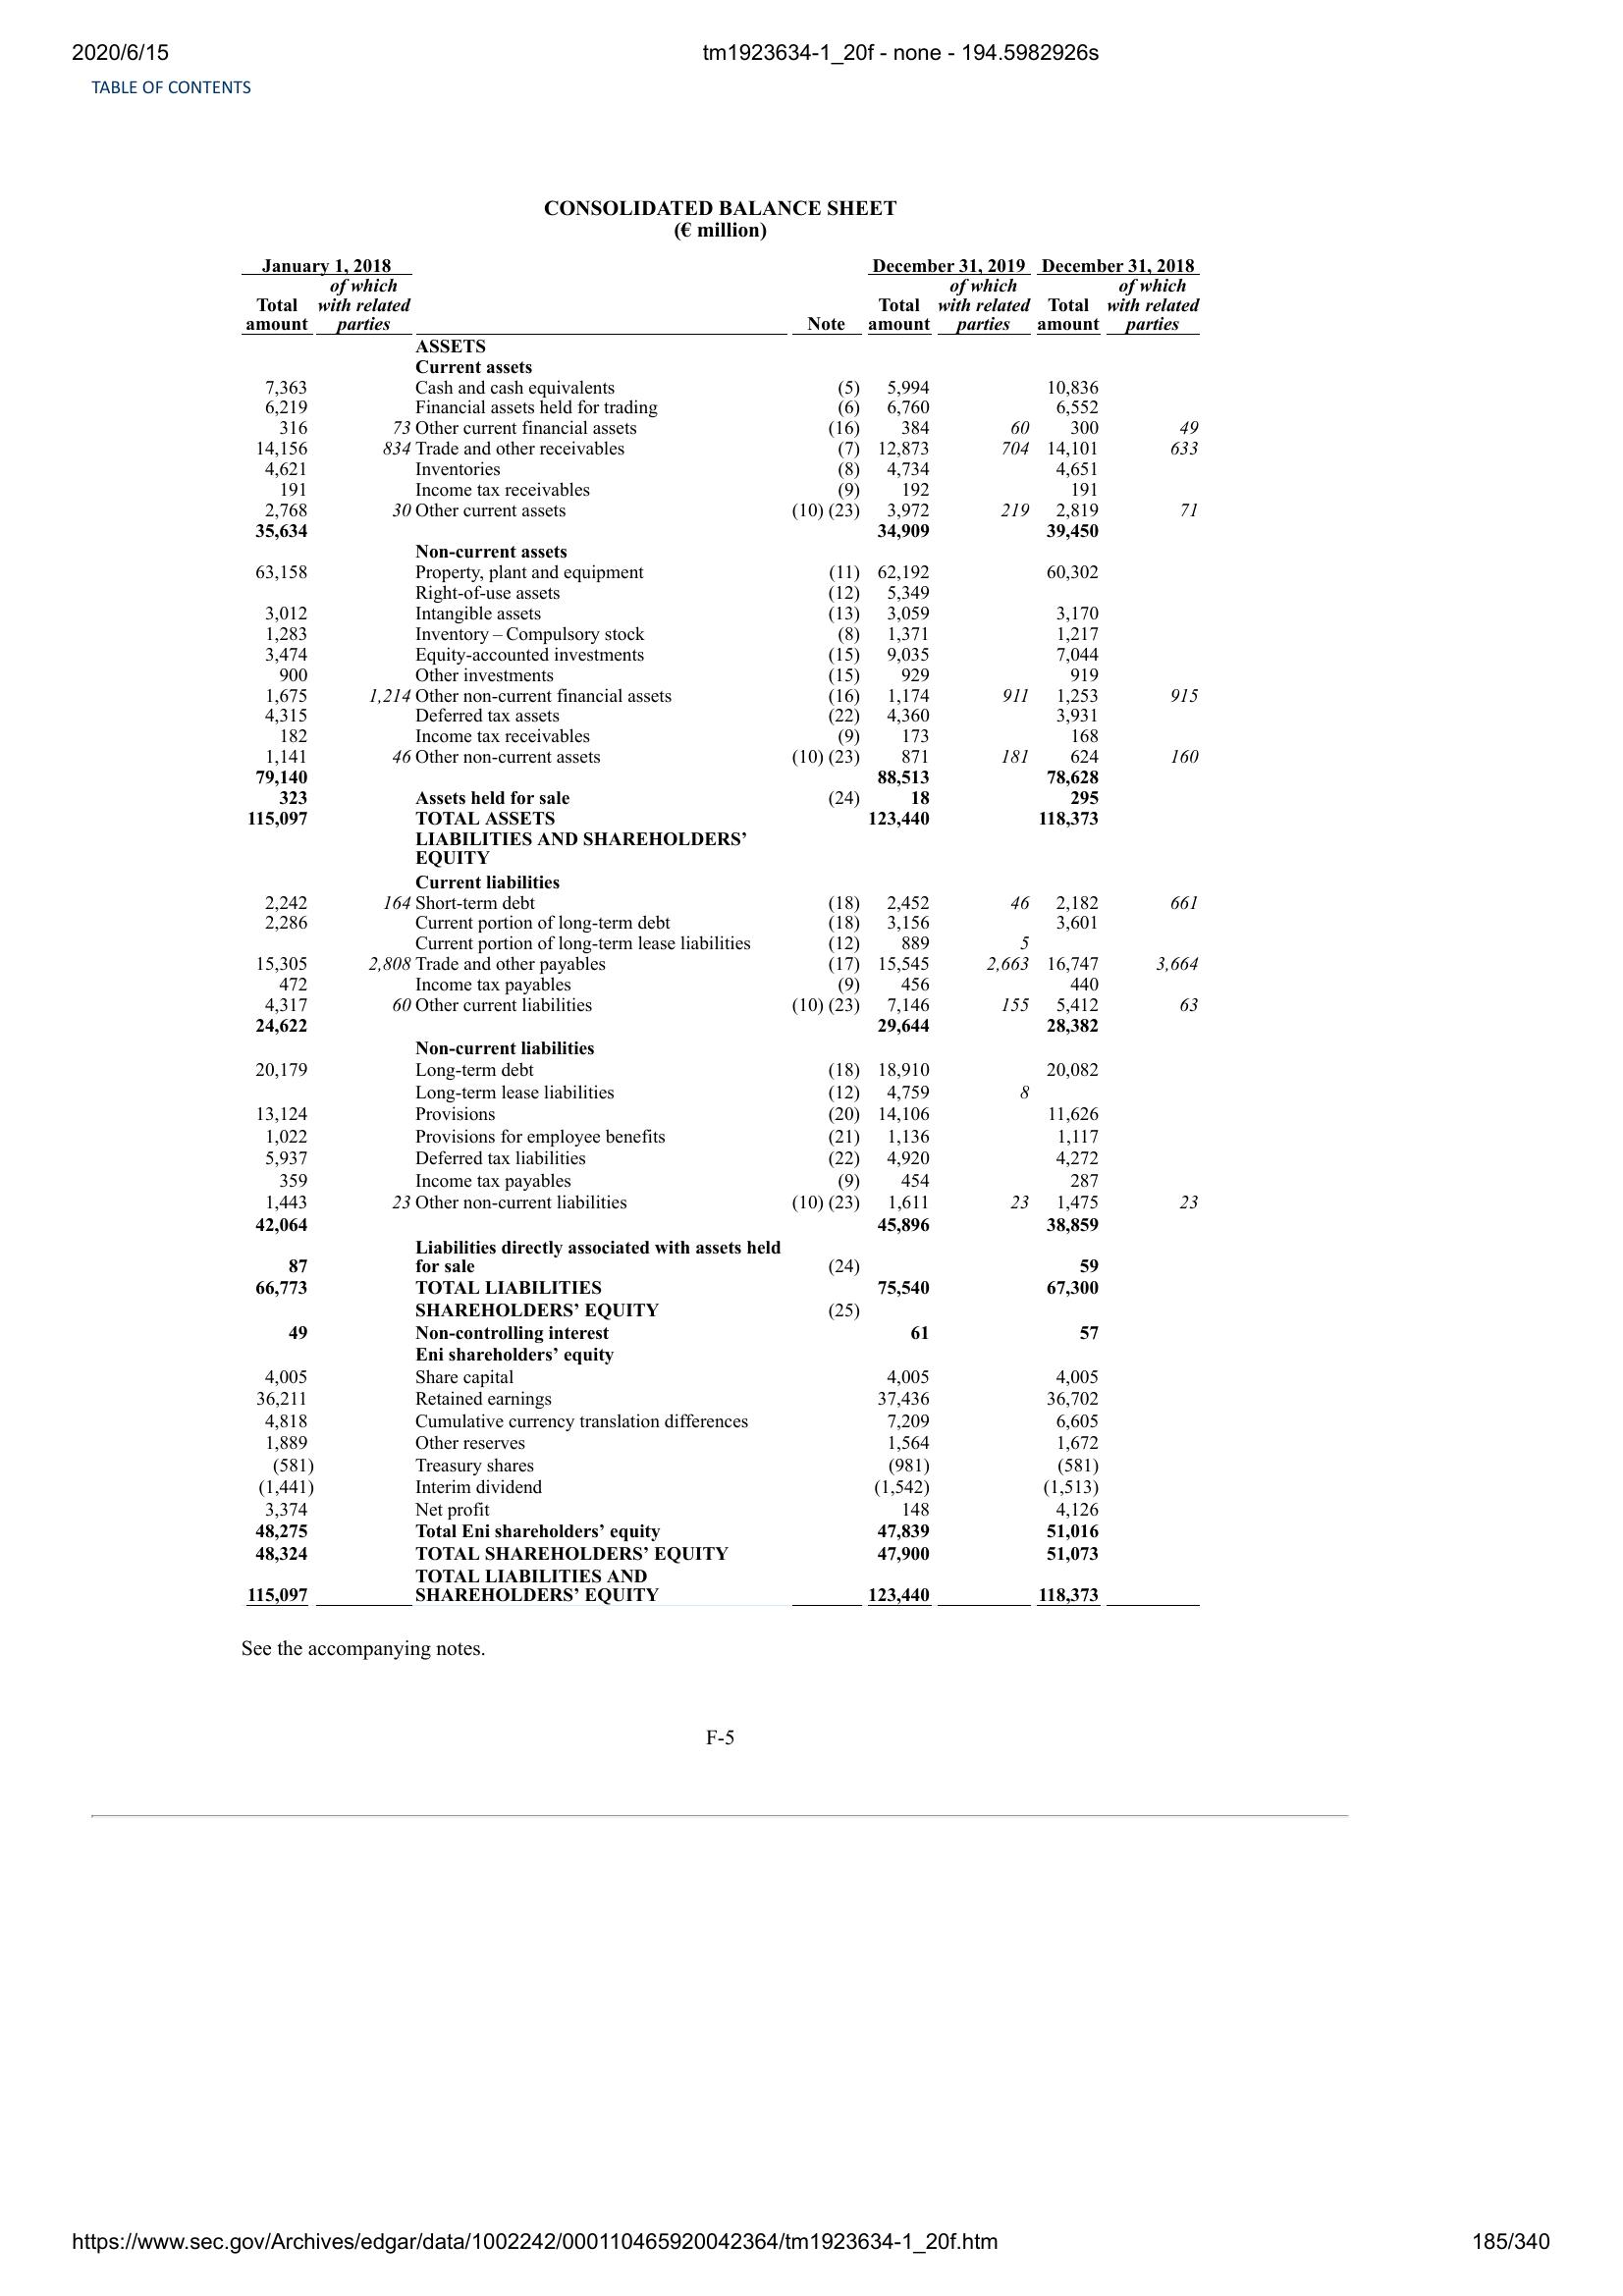table: (239, 246, 1223, 1622)
